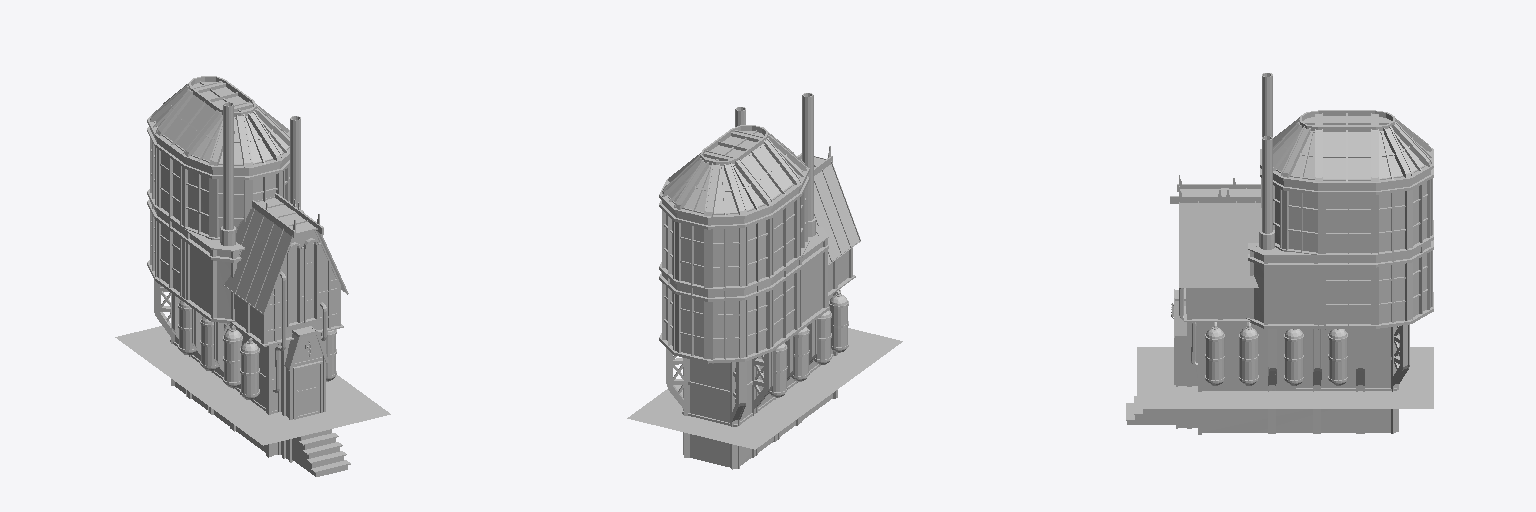
File: HOUSE_LGH_TIR_2.obj
3 renders of one model, left to right at view 1: azimuth 30°, elevation 25°; view 2: azimuth 150°, elevation 25°; view 3: azimuth 270°, elevation 25°, orthographic.
Parts seen in each view (by area): view 1: Object029, Object028, Plane012, Object091, Shape391, Cylinder112, Box437, Sphere044, Box436, Circle089, Sphere045, Object093 (+5 smaller); view 2: Object029, Object091, Object028, Plane012, Cylinder112, Sphere044, Sphere046, Sphere045, Sphere047, Shape391, Shape390; view 3: Object028, Object029, Object091, Plane012, Cylinder112, Shape391, Sphere047, Sphere045, Sphere044, Sphere046, Line093, Shape390 (+4 smaller).
Boxes of the visible parts, <box> form: Object029: <box>147,76,289,431</box>; Object028: <box>175,198,345,459</box>; Plane012: <box>115,326,390,445</box>; Object091: <box>156,82,313,323</box>; Shape391: <box>185,231,340,462</box>; Cylinder112: <box>220,102,303,245</box>; Box437: <box>292,429,350,476</box>; Sphere044: <box>240,329,336,399</box>; Box436: <box>296,365,319,418</box>; Circle089: <box>287,238,318,327</box>; Sphere045: <box>223,330,242,387</box>; Object093: <box>230,271,326,392</box>; Object029: <box>659,125,828,469</box>; Object091: <box>666,131,800,358</box>; Object028: <box>690,157,859,466</box>; Plane012: <box>627,328,902,449</box>; Cylinder112: <box>735,93,815,236</box>; Sphere044: <box>829,295,848,352</box>; Sphere046: <box>791,327,809,381</box>; Sphere045: <box>814,310,831,364</box>; Sphere047: <box>769,343,787,397</box>; Shape391: <box>799,239,852,398</box>; Shape390: <box>662,261,798,297</box>; Object028: <box>1175,189,1390,432</box>; Object029: <box>1246,110,1433,433</box>; Object091: <box>1273,116,1426,323</box>; Plane012: <box>1137,347,1433,408</box>; Cylinder112: <box>1259,73,1274,249</box>; Shape391: <box>1176,251,1317,434</box>; Sphere047: <box>1328,329,1348,385</box>; Sphere045: <box>1239,328,1258,385</box>; Sphere044: <box>1205,328,1224,385</box>; Sphere046: <box>1284,329,1303,385</box>; Line093: <box>1170,184,1260,203</box>; Shape390: <box>1268,242,1430,262</box>.
Size of the model in its own units: 64.31 by 158 by 134.